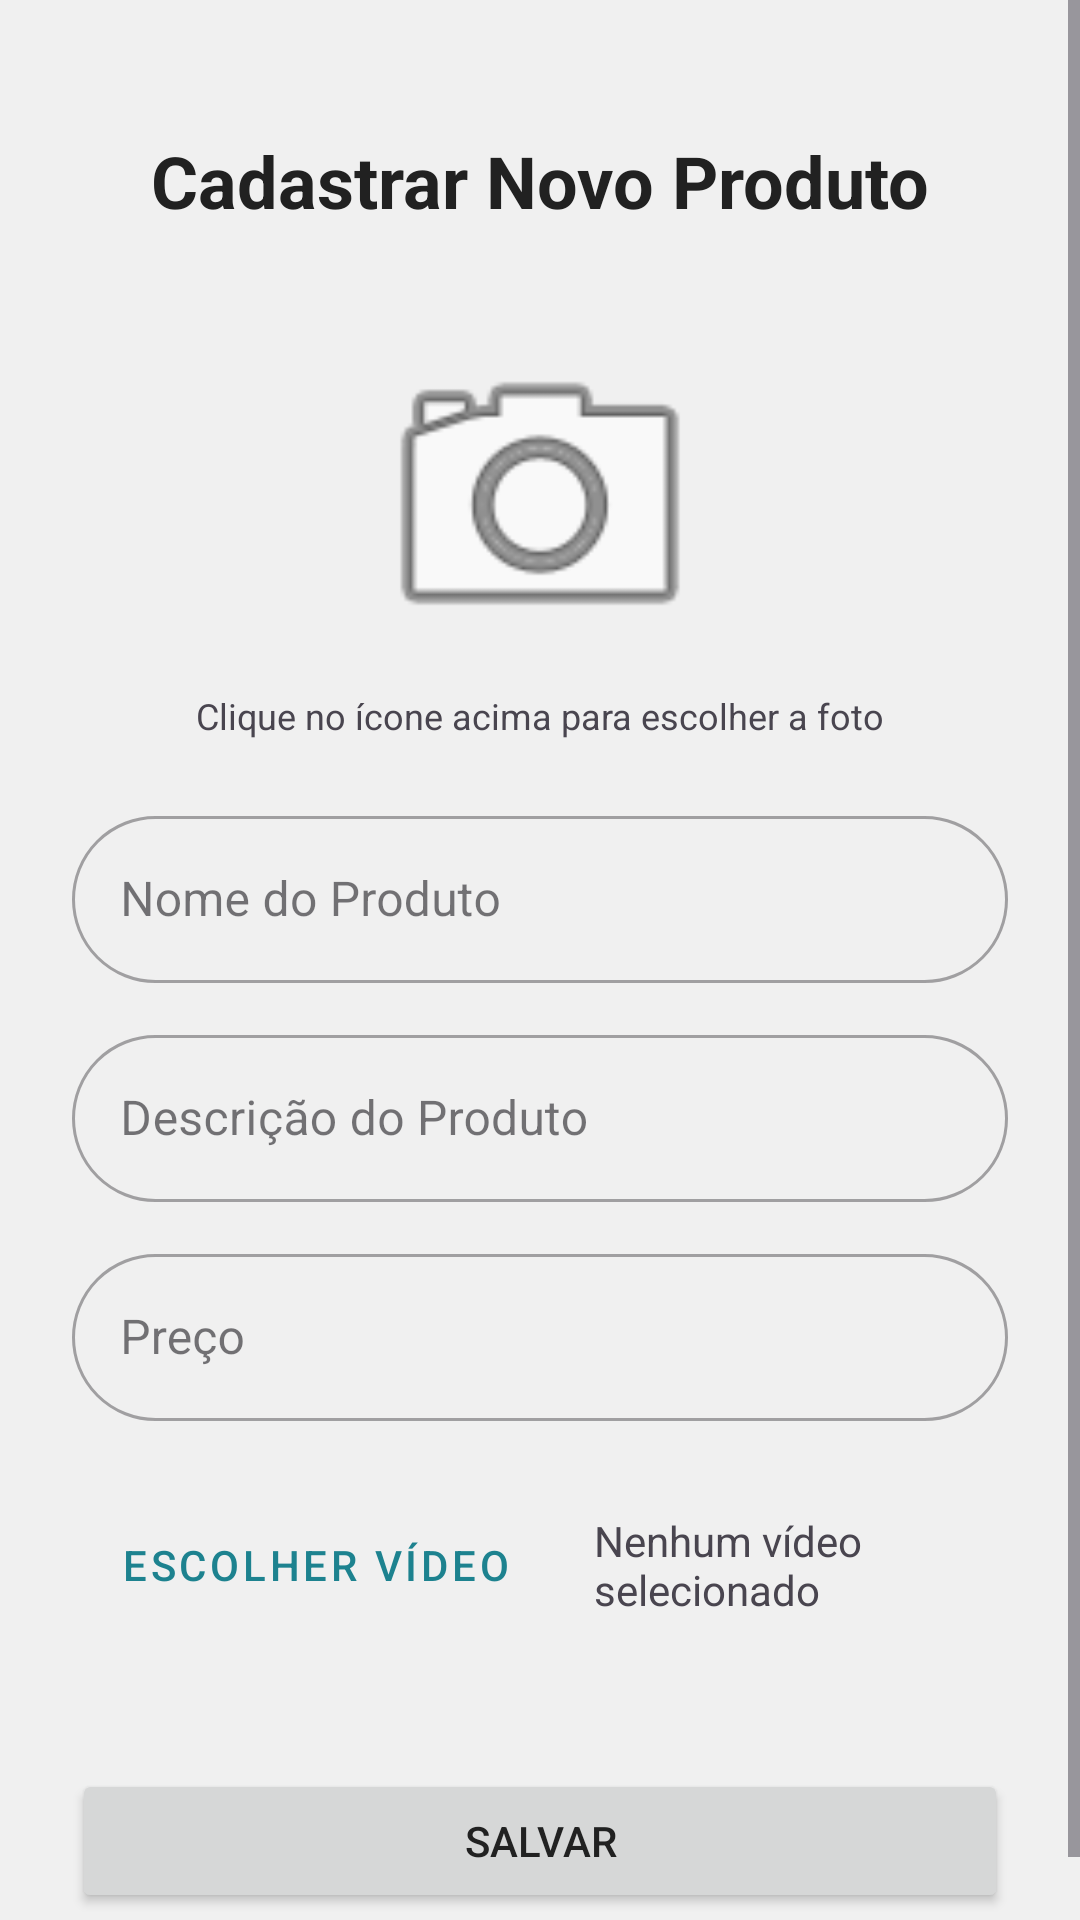

Icons on this 1080px x 1920px Android screen, each with the point to tap as (x,y):
camera: (540,493)
